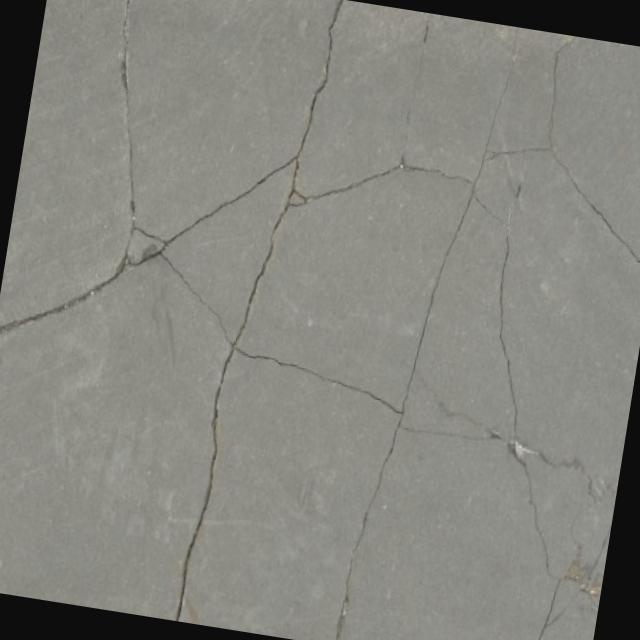crack: (171, 0, 353, 631), (334, 186, 470, 640), (469, 433, 620, 640), (437, 172, 556, 434), (84, 0, 191, 244), (0, 213, 169, 358), (478, 29, 578, 182), (544, 157, 640, 284), (323, 146, 477, 221), (400, 13, 437, 158), (170, 180, 240, 250), (158, 259, 227, 324), (290, 358, 378, 407)
